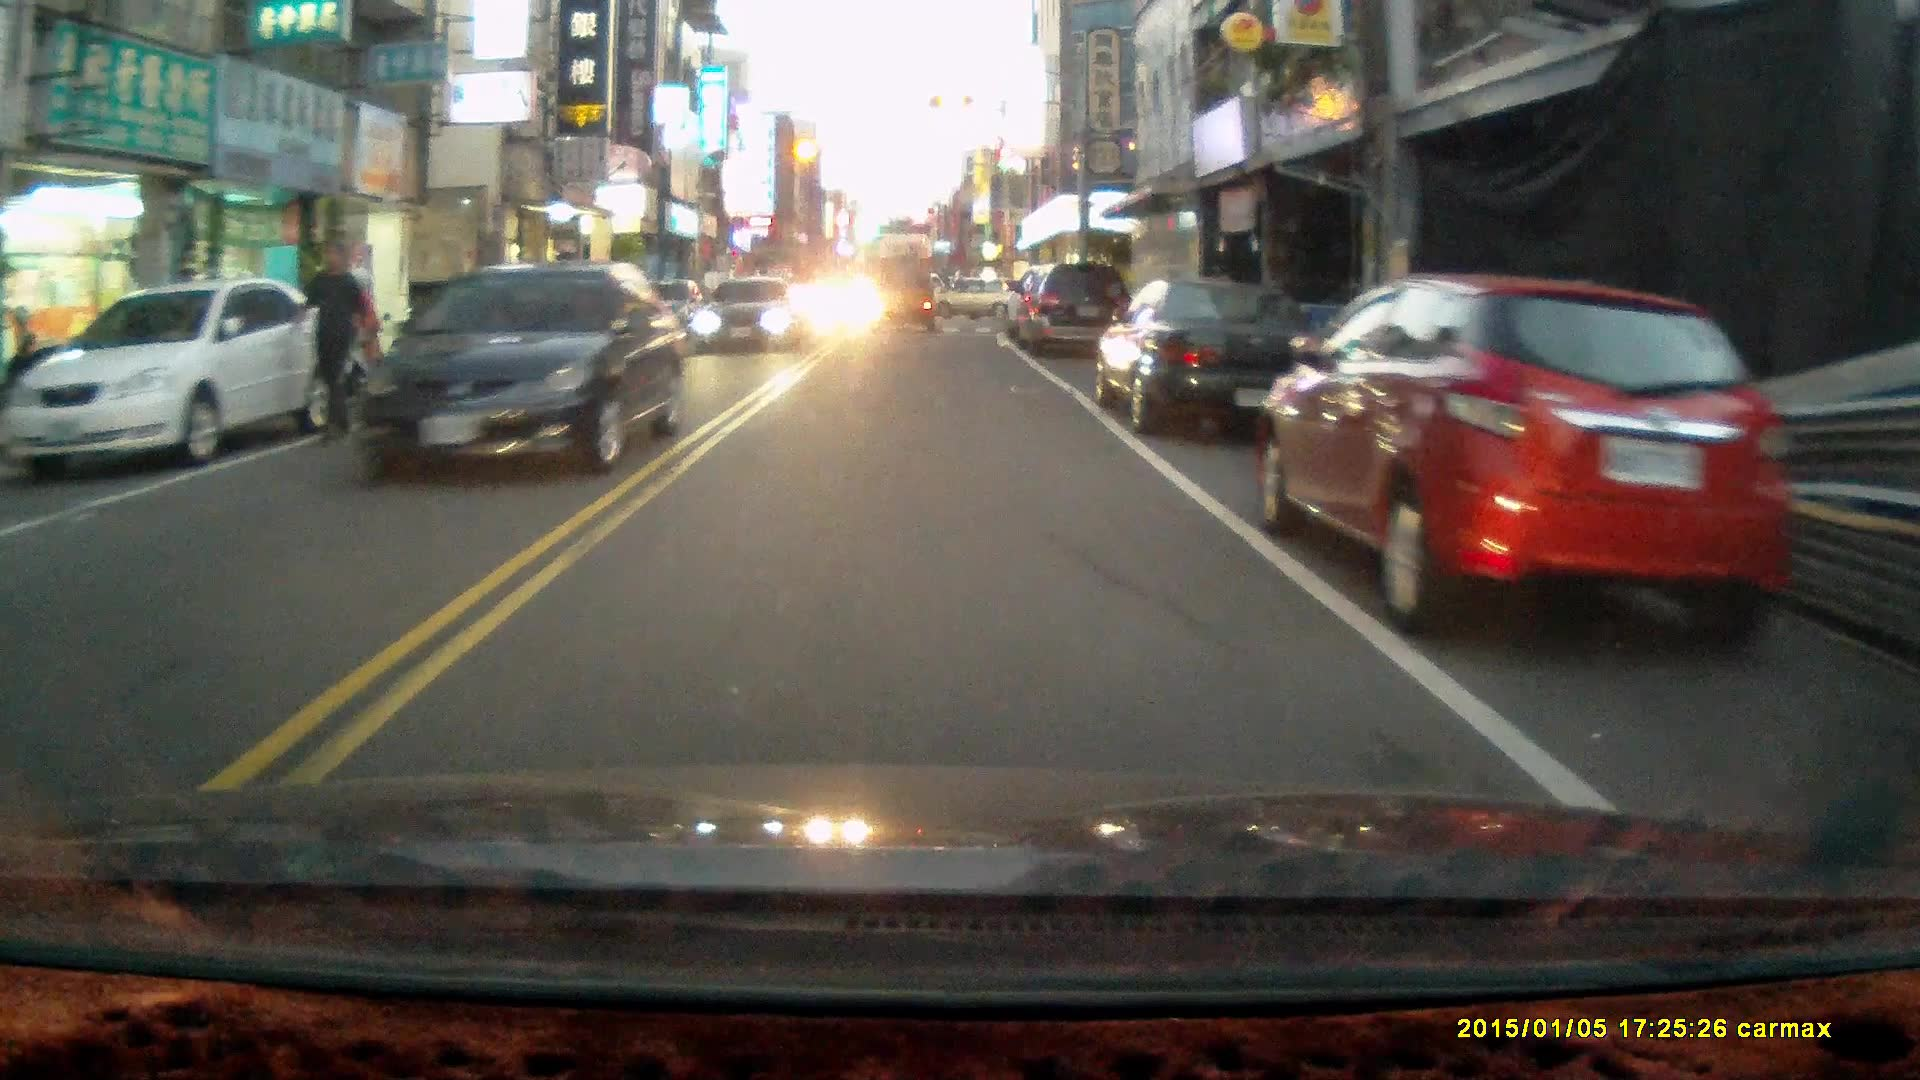pedestrian: (289, 237, 371, 441)
vehicle: (1258, 271, 1806, 655), (346, 264, 688, 486), (14, 277, 340, 483), (1094, 281, 1335, 441), (1008, 266, 1139, 364), (699, 284, 800, 362), (869, 260, 940, 342)
